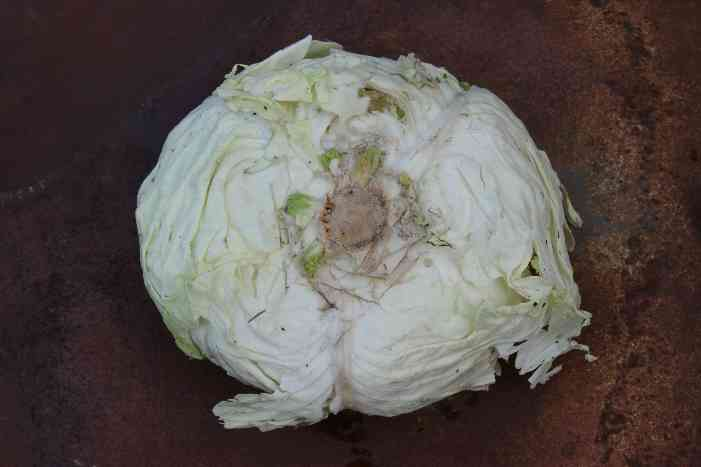cabbage: (161, 42, 699, 463)
